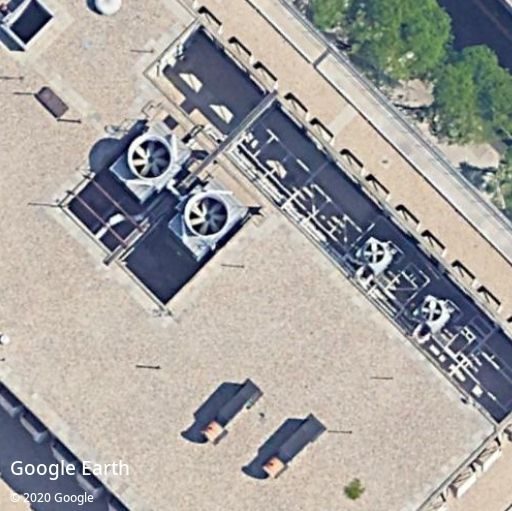Vent: (131, 137, 171, 178), (187, 196, 228, 236), (422, 300, 443, 322), (364, 243, 384, 264)
